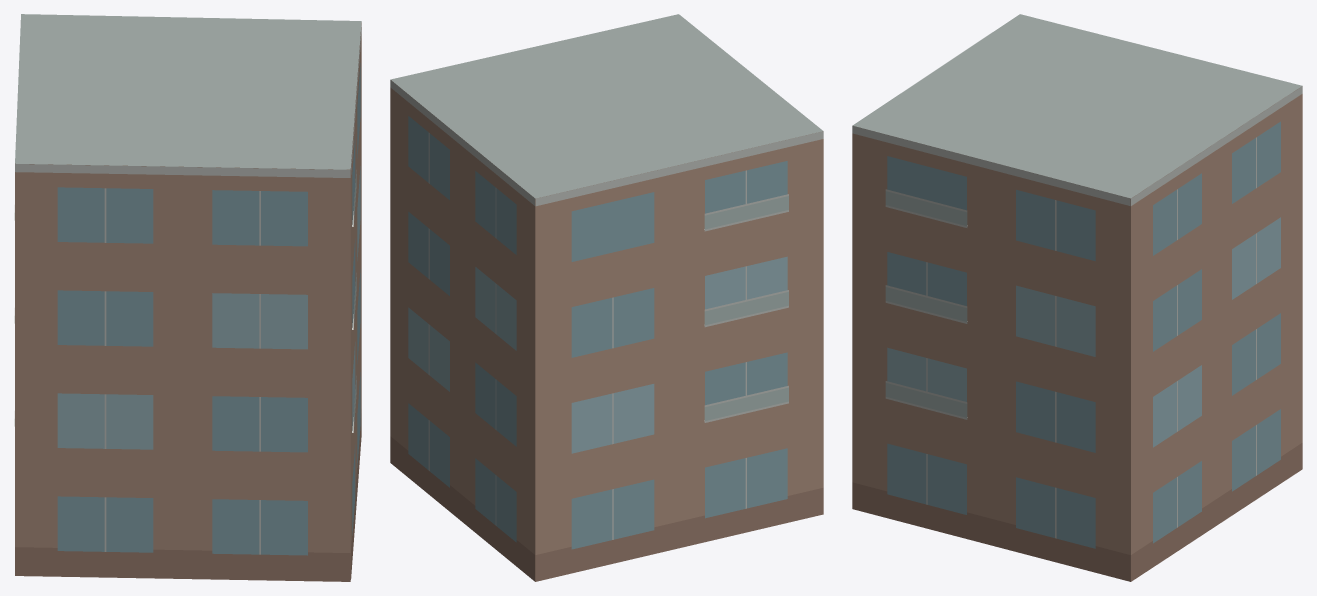
The model's file is survey-upis-33022709.glb.
3 views of the same model, side by side, from view 1: azimuth 30°, elevation 25°; view 2: azimuth 150°, elevation 25°; view 3: azimuth 270°, elevation 25° (orthographic). The views are drawn at different scales.
Visible parts, largest first — view 1: survey-upis-33022709.tmp; view 2: survey-upis-33022709.tmp; view 3: survey-upis-33022709.tmp.
Boxes of the visible parts, x1,y1,x2,y2 form: survey-upis-33022709.tmp: [14, 14, 361, 581]; survey-upis-33022709.tmp: [390, 14, 823, 581]; survey-upis-33022709.tmp: [852, 14, 1302, 581].
Size of the model in its own units: 12.39 by 12 by 12.78.
